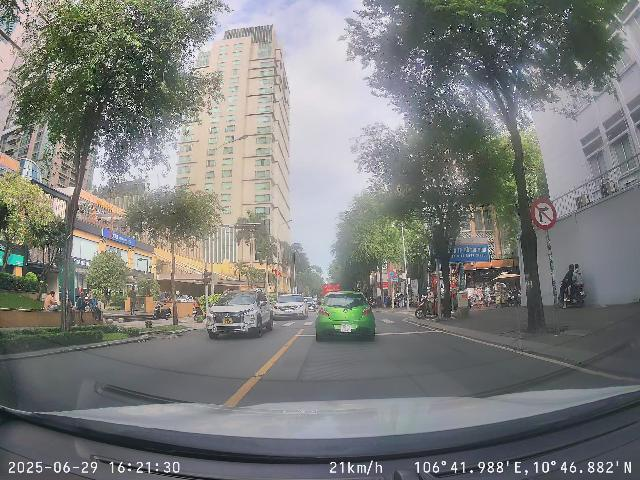123b-cam-re-phai: (530, 198, 557, 230)
